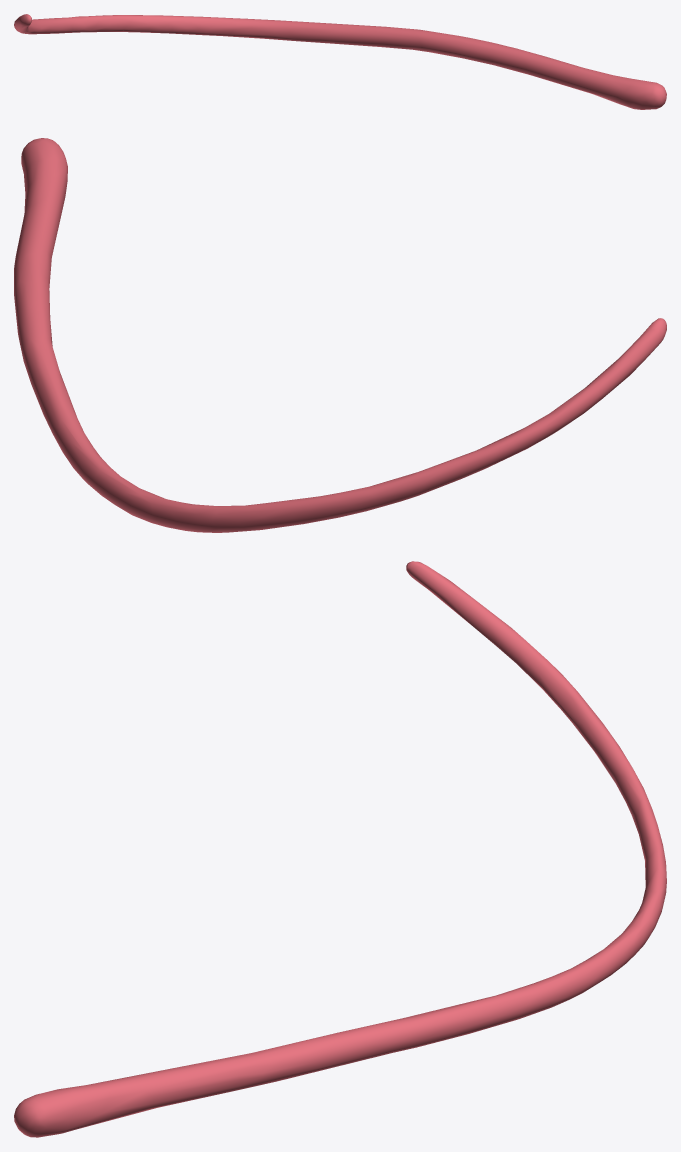
File: fma22685_fj2292.glb
3 views of the same model, one above another, from view 1: azimuth 30°, elevation 25°; view 2: azimuth 150°, elevation 25°; view 3: azimuth 270°, elevation 25° (orthographic). The views are drawn at different scales.
Visible parts, largest first — view 1: FMA22685_FJ2292; view 2: FMA22685_FJ2292; view 3: FMA22685_FJ2292.
Boxes of the visible parts, x1=… form: FMA22685_FJ2292: x1=14, y1=14, x2=666, y2=109; FMA22685_FJ2292: x1=14, y1=138, x2=666, y2=532; FMA22685_FJ2292: x1=14, y1=561, x2=666, y2=1137.
Bounding box in the file's own units: 0.0508 × 0.0126 × 0.0358.
